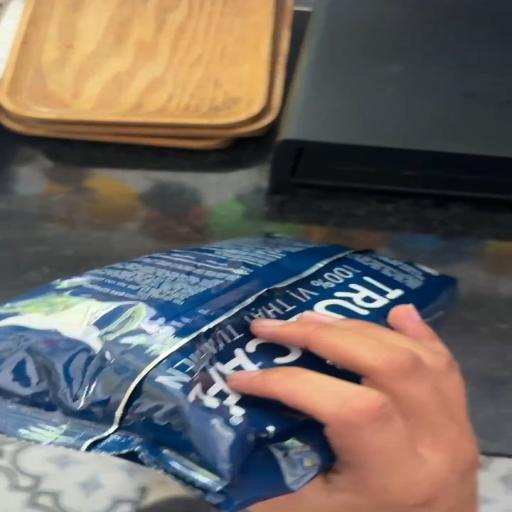cafe_hat: (0, 236, 457, 512)
